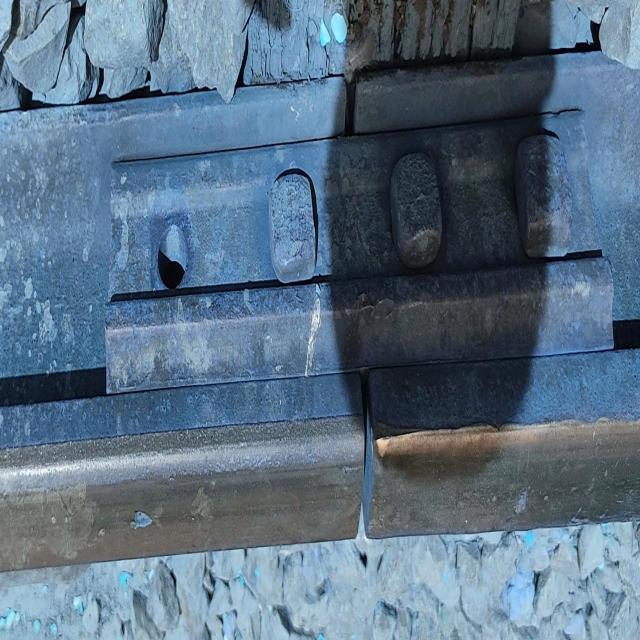Defective Joint: (104, 144, 624, 356)
